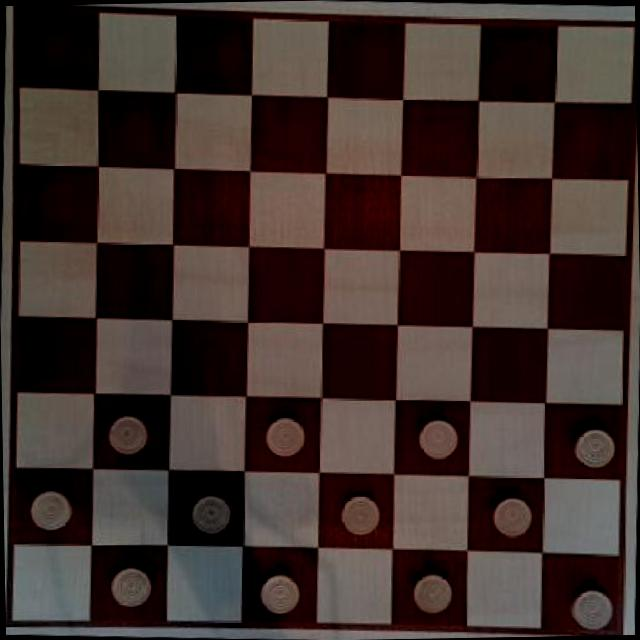BOARD: (12, 0, 630, 640)
white: (22, 479, 78, 538), (100, 404, 154, 460), (250, 564, 306, 618), (570, 417, 618, 476), (562, 580, 617, 630), (258, 404, 306, 460), (184, 489, 236, 540), (412, 412, 460, 463), (331, 489, 382, 536), (408, 566, 452, 616), (488, 493, 534, 539), (111, 563, 152, 611)
